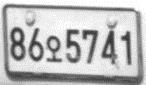1: (120, 30, 133, 66)
4: (100, 29, 118, 65)
5: (64, 28, 81, 63)
6: (28, 27, 44, 62)
7: (80, 28, 99, 64)
8: (10, 26, 26, 60)
오: (45, 34, 62, 62)
